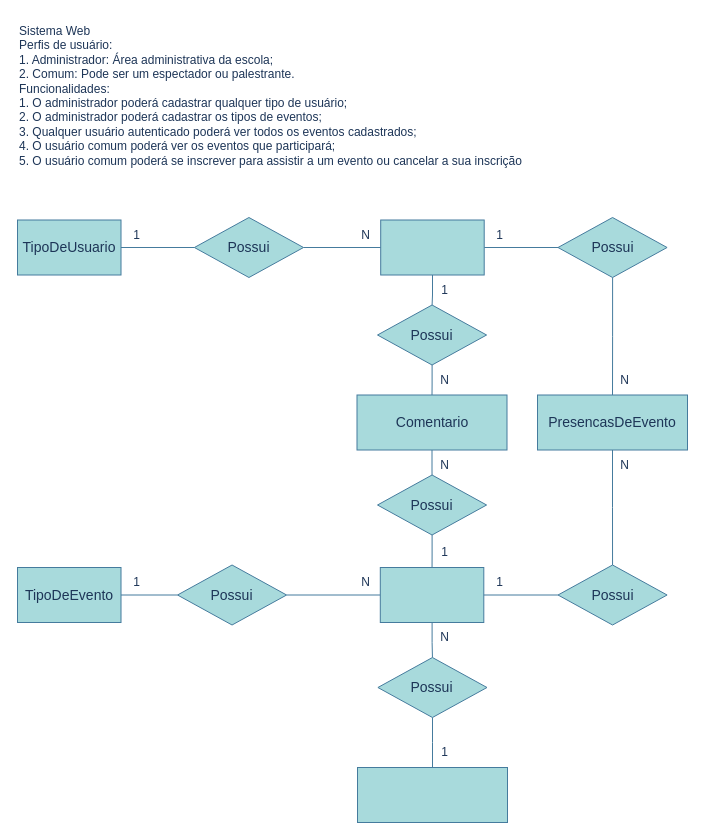
This 705x840 diagram has some shape labels left out. The centre of each missing label's shape, as x and y in pixels:
"Evento" goes at pixel 431 594.
"Instituicao" goes at pixel 432 794.
"Usuario" goes at pixel 432 247.
